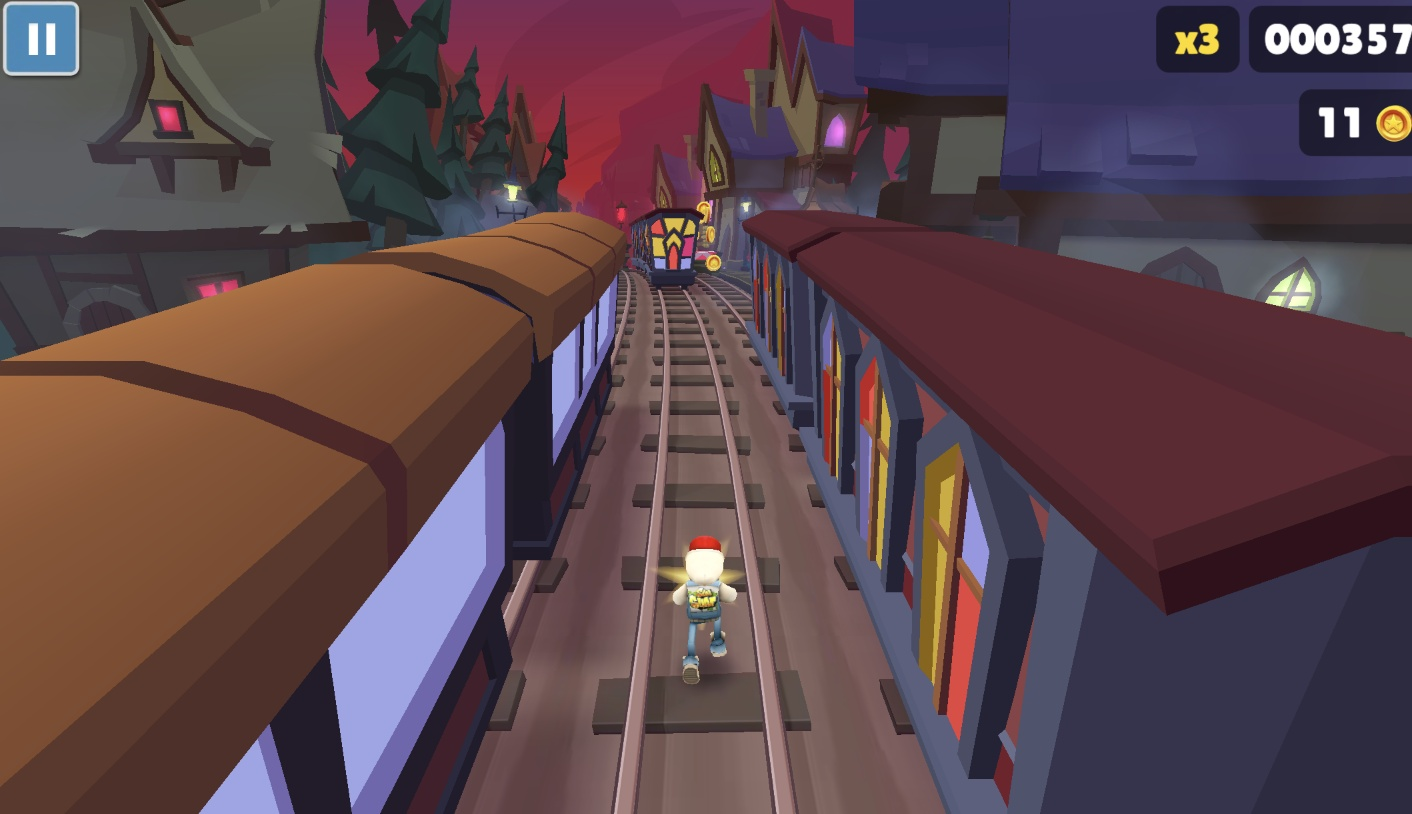train: (744, 210, 1412, 814), (0, 212, 626, 814), (635, 208, 707, 291)
